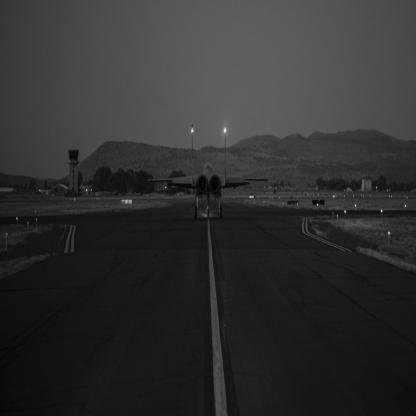F15: (148, 124, 269, 220)
